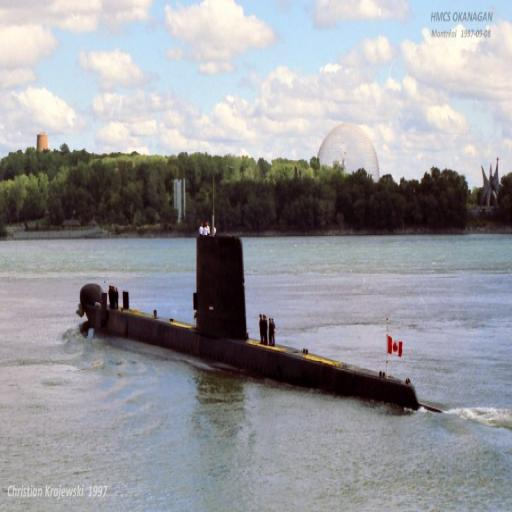submarine: (77, 233, 417, 409)
